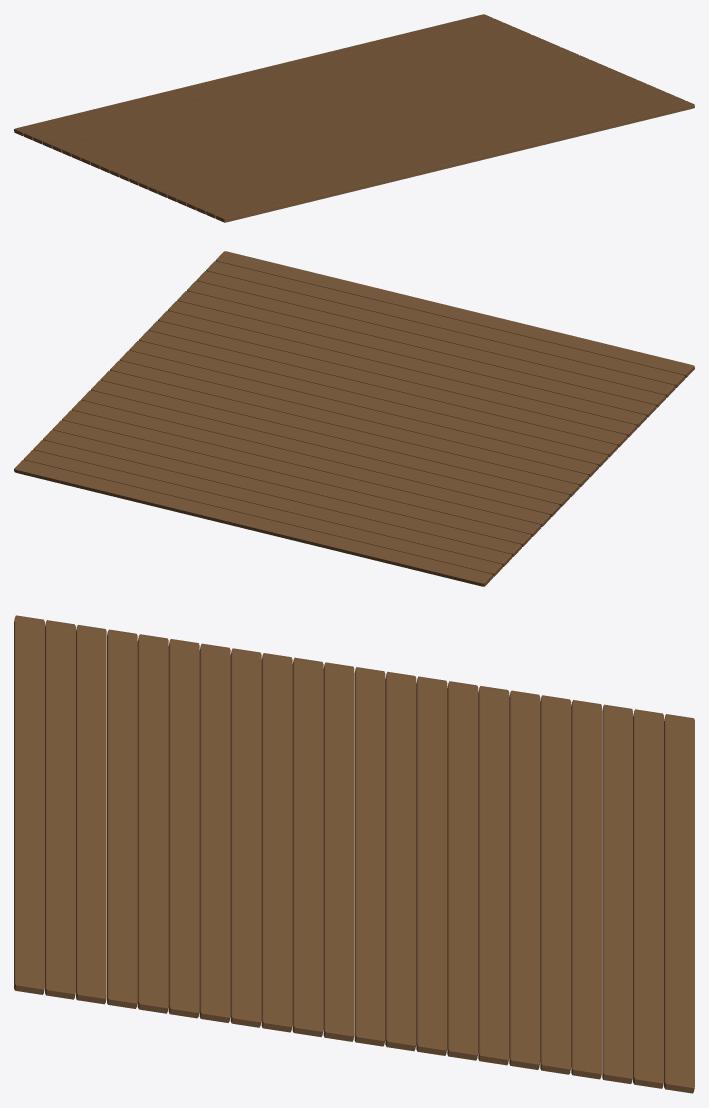
Rendered from Roof.fbx.
3 views of the same model, one above another, from view 1: azimuth 30°, elevation 25°; view 2: azimuth 150°, elevation 25°; view 3: azimuth 270°, elevation 25° (orthographic). The views are drawn at different scales.
Parts seen in each view (by area): view 1: Wooden_roof; view 2: Wooden_roof; view 3: Wooden_roof.
Part boxes in pixels (x1,y1,x2,y2): Wooden_roof: (14, 14, 694, 222); Wooden_roof: (14, 251, 694, 586); Wooden_roof: (14, 615, 694, 1093).
Bounding box in the file's own units: 1246 × 171 × 969.
